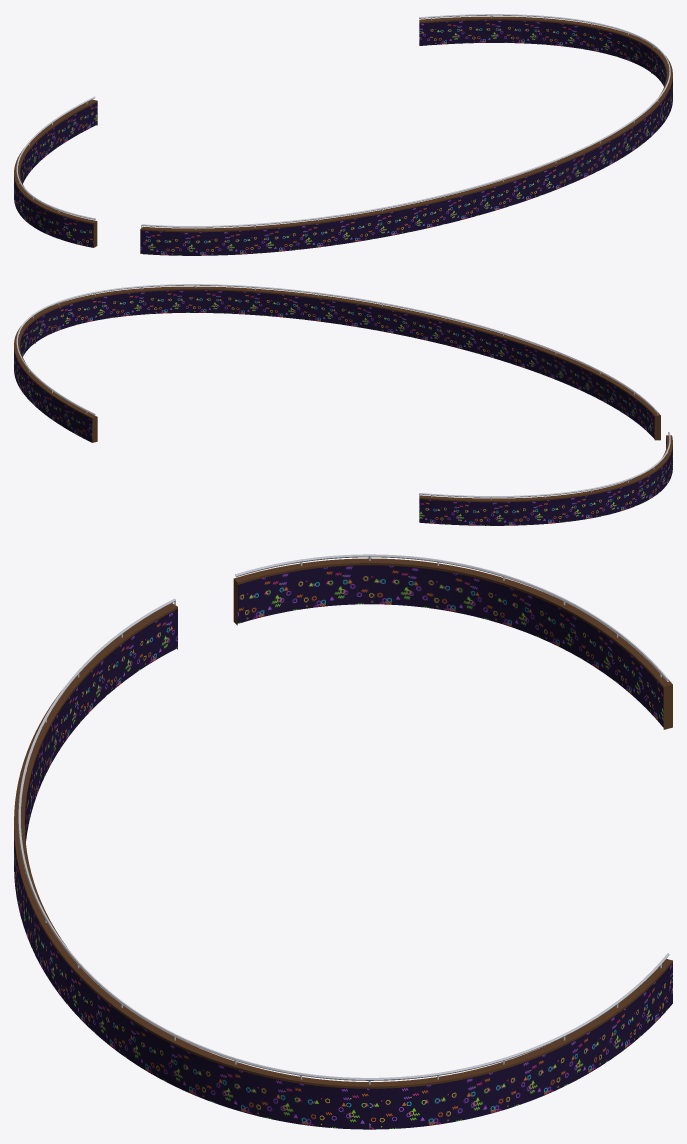
Rendered from RinkRail.obj.
The picture shows the model from 3 angles, top to bottom: view 1: azimuth 30°, elevation 25°; view 2: azimuth 150°, elevation 25°; view 3: azimuth 270°, elevation 25°; orthographic projection. The views are drawn at different scales.
Visible parts, largest first — view 1: RinkRail; view 2: RinkRail; view 3: RinkRail.
Part boxes in pixels (x1,y1,x2,y2): RinkRail: (14, 14, 672, 255); RinkRail: (14, 284, 672, 525); RinkRail: (14, 554, 672, 1129).
Size of the model in its own units: 25.54 by 1.11 by 13.47.
3 materials, 3 textured.
